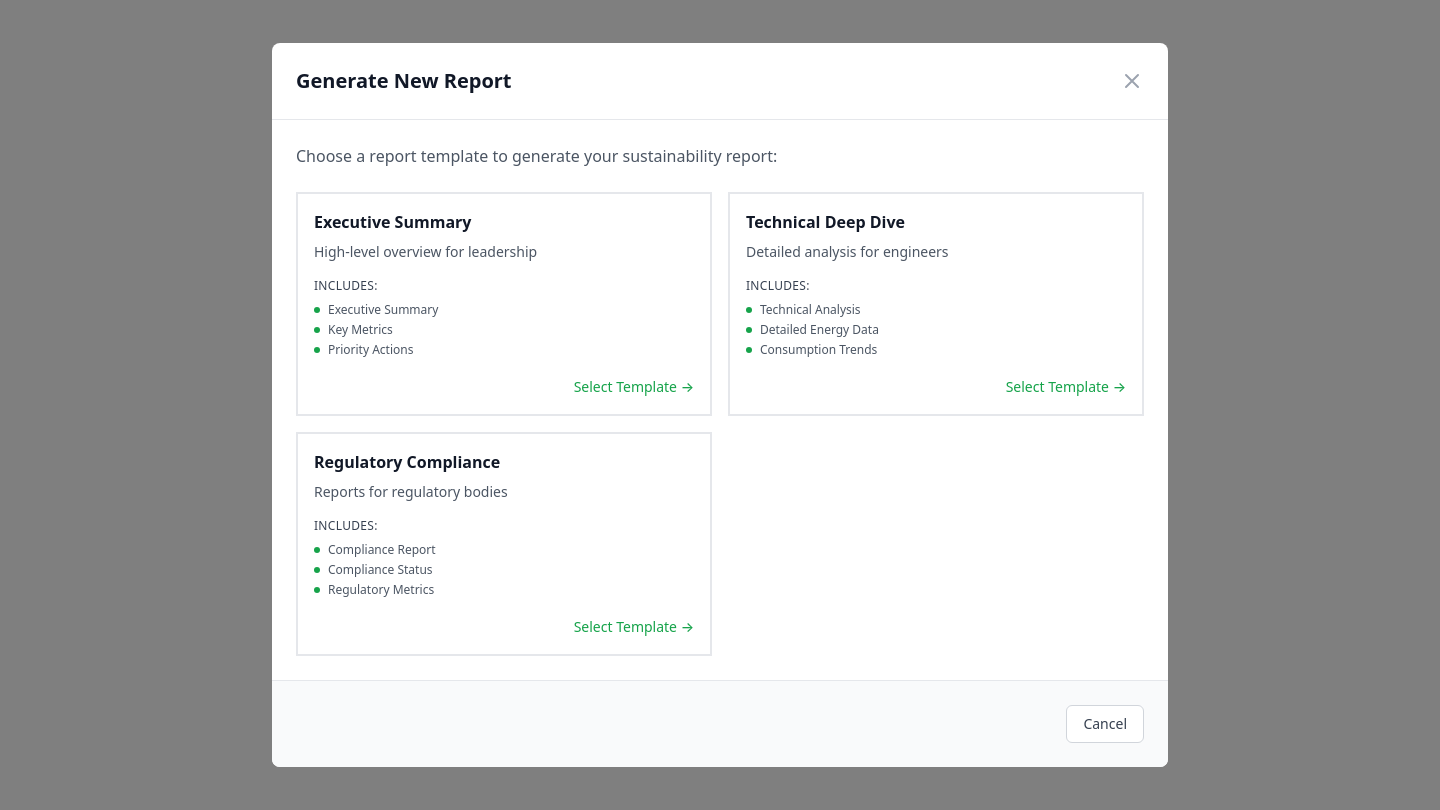
Test case: ReportGenerationModal › Template Selection Step › should navigate to customize step when template is selected
Click the element with test id "card" that starts with "Executive Summary" at (504, 304), box [296, 192, 712, 416]
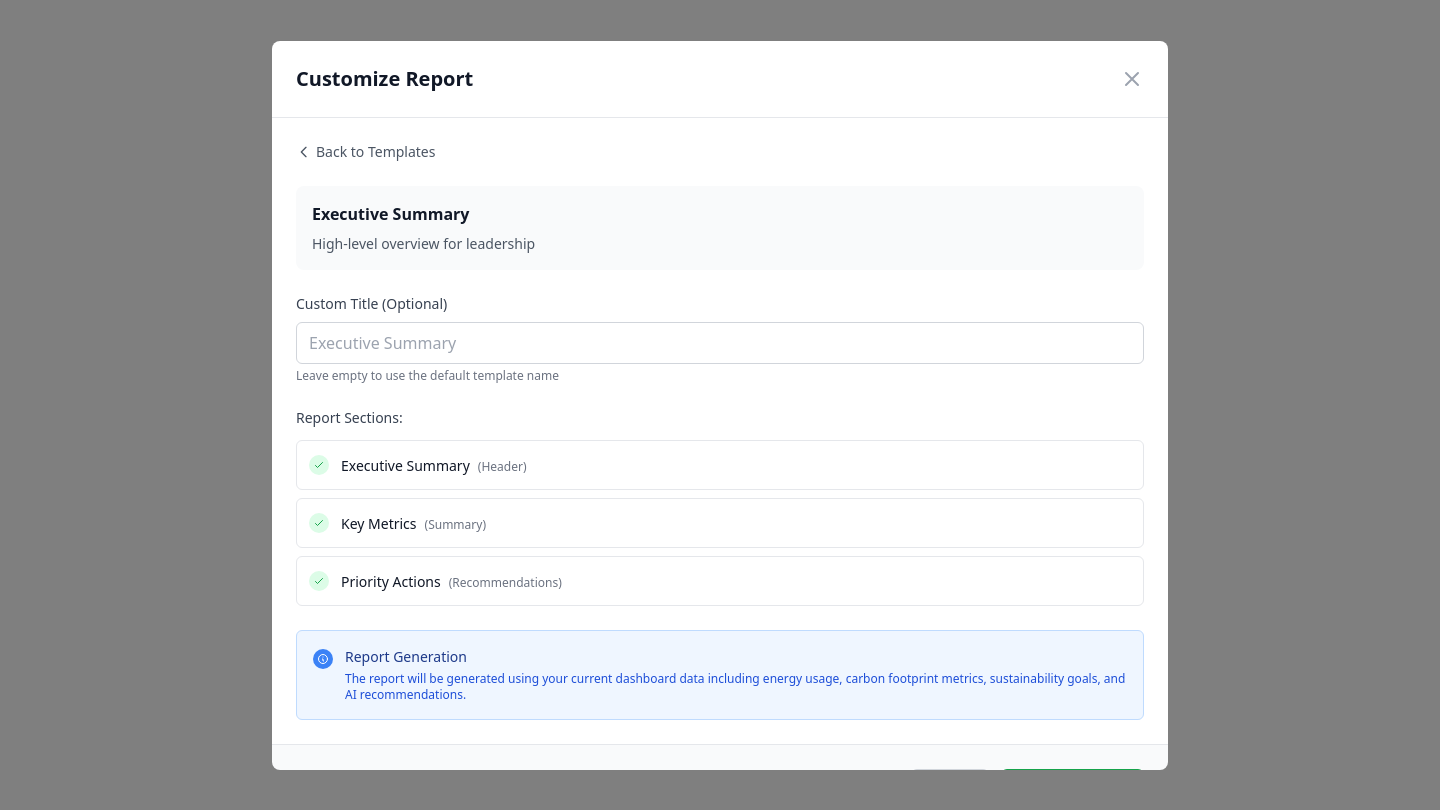
Check: the heading "Customize Report" is shown, box [296, 64, 473, 92]
